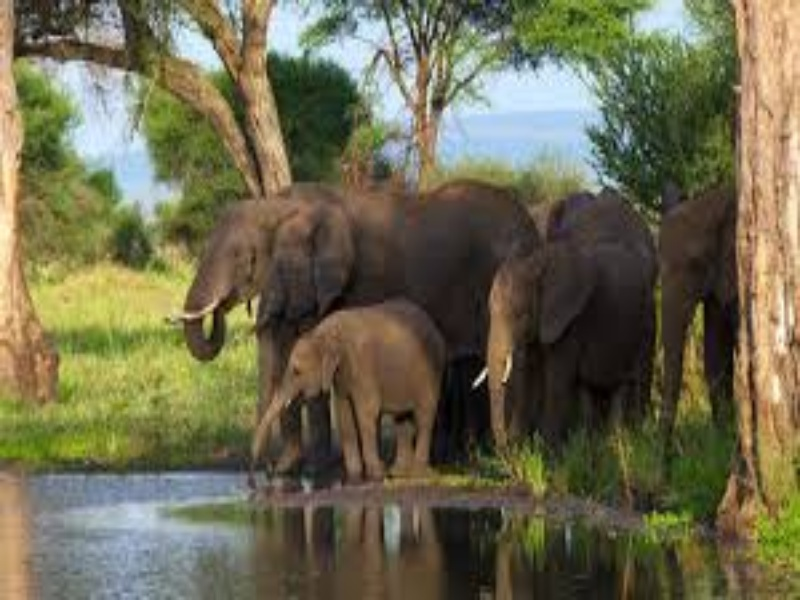elephant: (157, 151, 477, 507)
